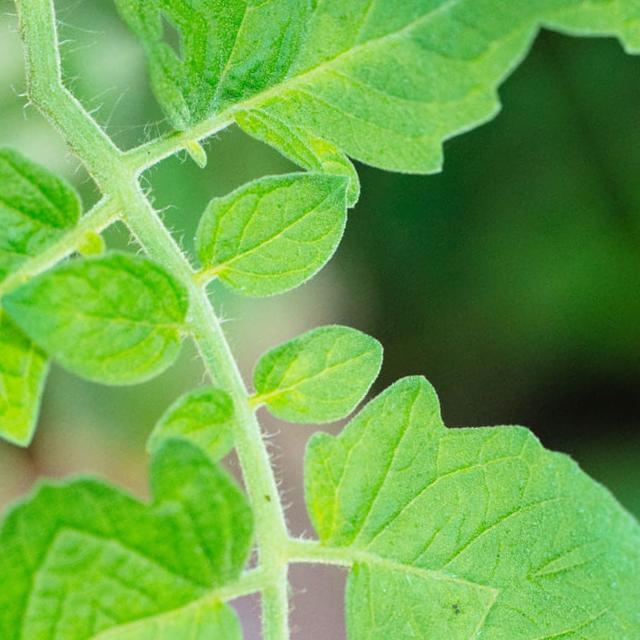Tomato leaf: (248, 322, 640, 640), (129, 0, 564, 233), (43, 410, 328, 640), (0, 91, 177, 460), (0, 220, 228, 439), (159, 149, 374, 335), (219, 292, 415, 454)
